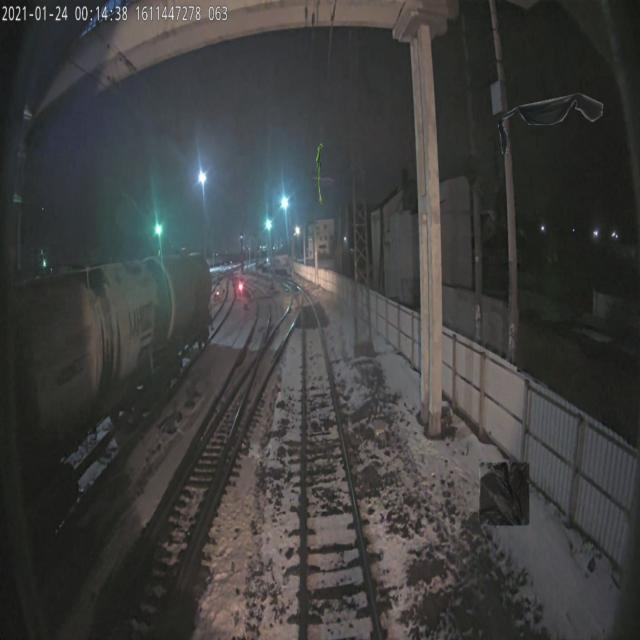floating object: (498, 91, 605, 156), (316, 143, 323, 207)
plastic bag: (479, 462, 529, 526)
